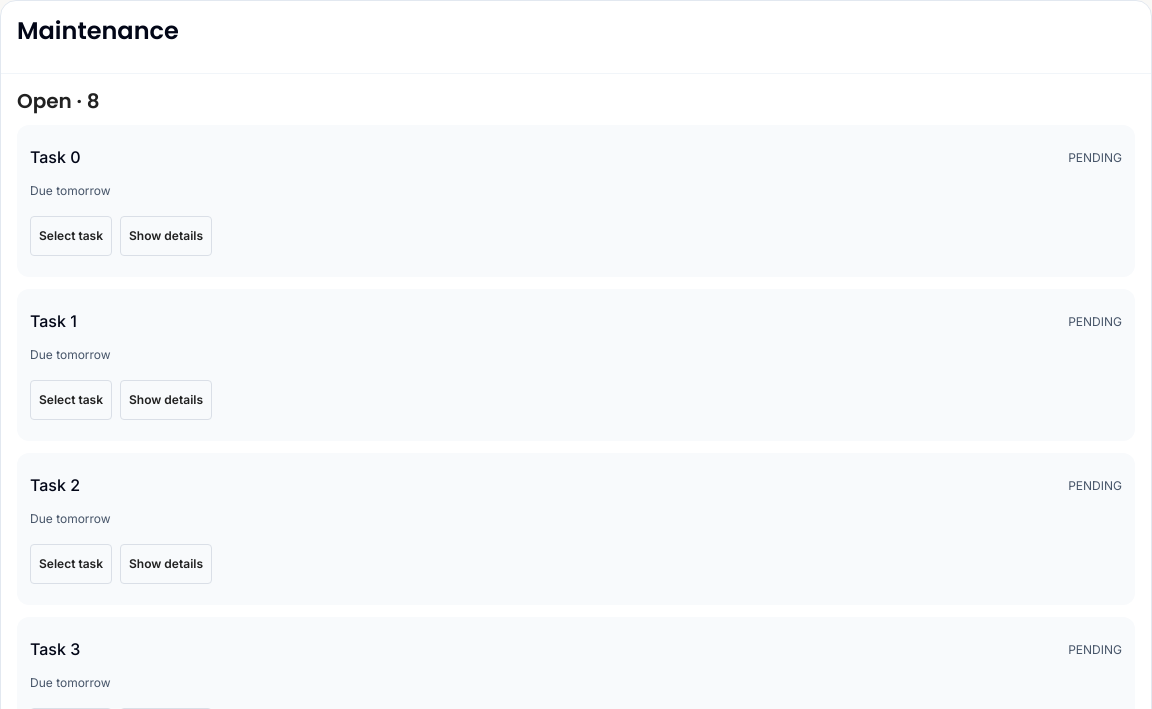
workspace does not invent edit controls when the result declares no governed update action
What coordinates should you click on to do the following:
click the button "Task 0"
I would click on:
 (55, 158)
Its box is [30,138,80,178].
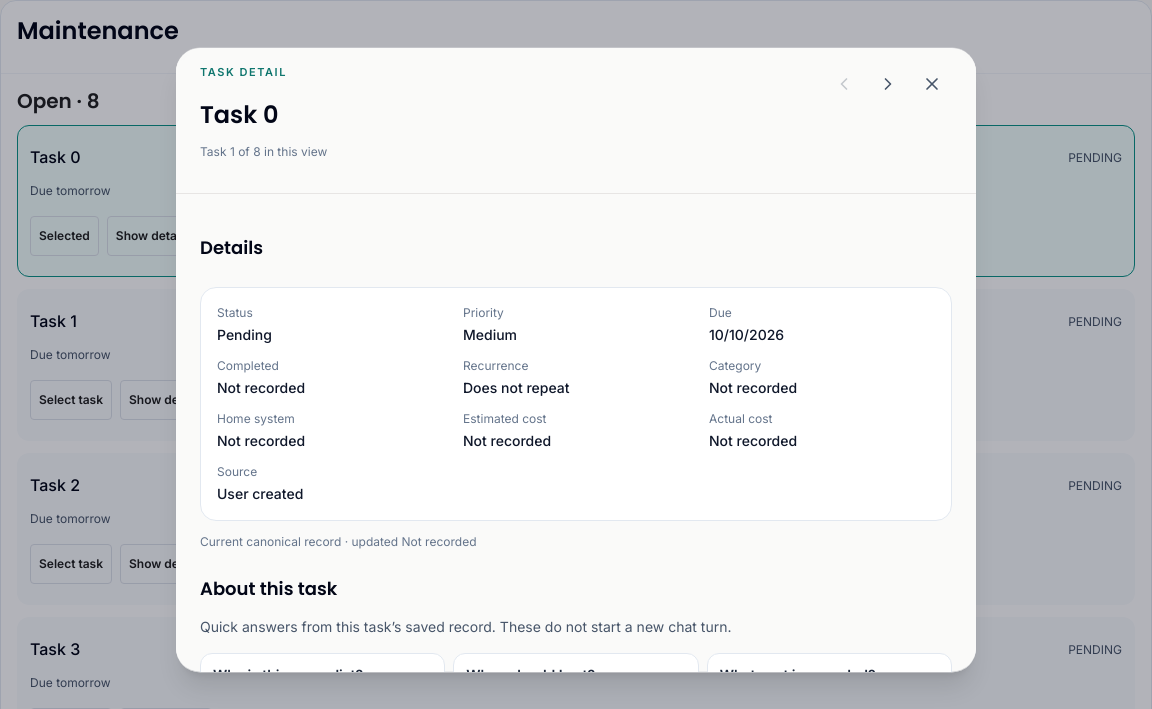
Check: the text "10/10/2026" is shown, box [709,326,784,343]
